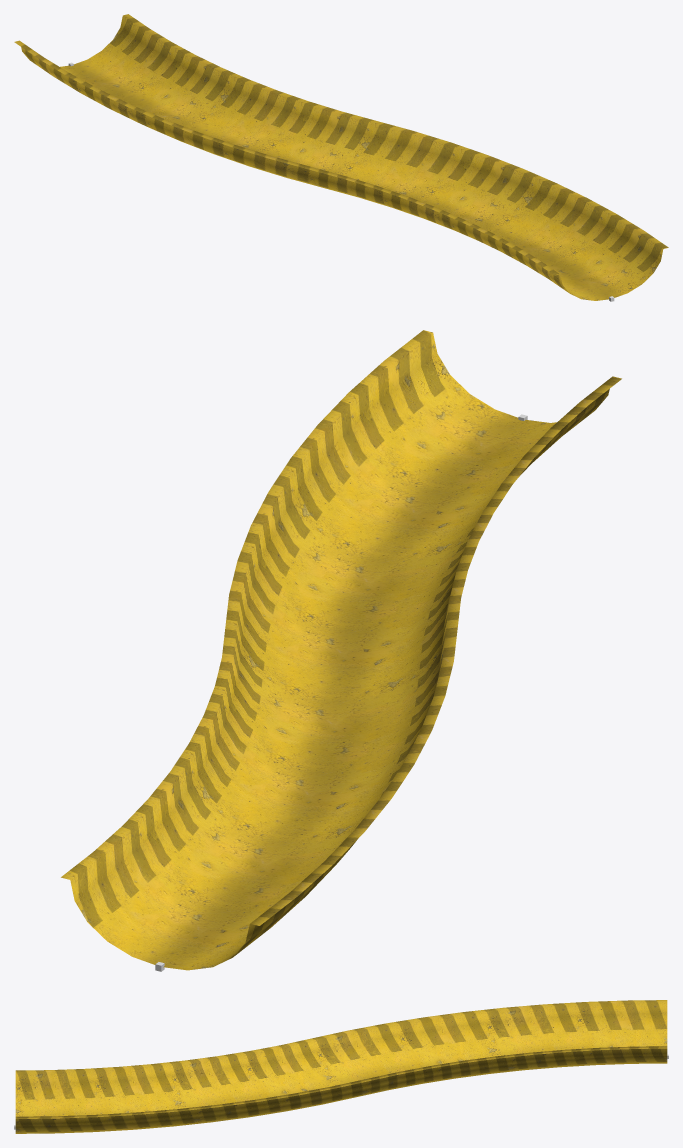
File: roadShift.left2.fbx
The picture shows the model from 3 angles, top to bottom: view 1: azimuth 30°, elevation 25°; view 2: azimuth 150°, elevation 25°; view 3: azimuth 270°, elevation 25°; orthographic projection. The views are drawn at different scales.
Parts seen in each view (by area): view 1: MESH roadShift.left2; view 2: MESH roadShift.left2; view 3: MESH roadShift.left2.
Boxes of the visible parts, box(x1,y1,x2,y2) form: MESH roadShift.left2: box(14, 14, 668, 300); MESH roadShift.left2: box(61, 330, 621, 970); MESH roadShift.left2: box(15, 1000, 667, 1133).
Size of what is drawn, in the model's own units: 4150 by 553 by 9650.
